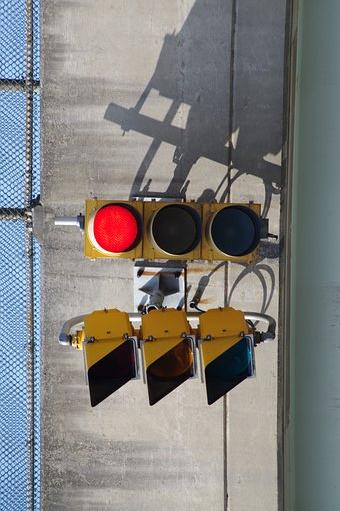trafic: (85, 198, 258, 258), (79, 339, 252, 399)
